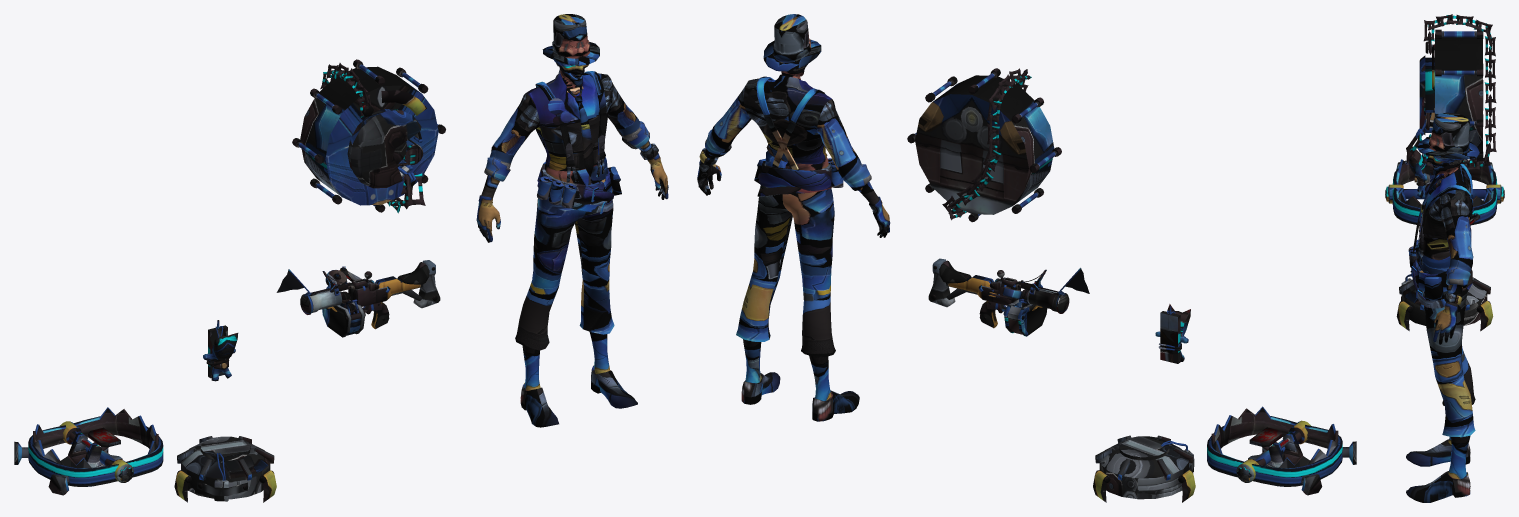
File: xiaochou_mod.FBX
3 views of the same model, side by side, from view 1: azimuth 30°, elevation 25°; view 2: azimuth 150°, elevation 25°; view 3: azimuth 270°, elevation 25° (orthographic). The views are drawn at different scales.
Parts seen in each view (by area): view 1: objpolySurface554; view 2: objpolySurface554; view 3: objpolySurface554.
Part boxes in pixels (<box>): objpolySurface554: <box>14,14,668,502</box>; objpolySurface554: <box>697,14,1356,502</box>; objpolySurface554: <box>1385,14,1504,502</box>.
Size of the model in its own units: 3.18 by 1.86 by 0.5498.
